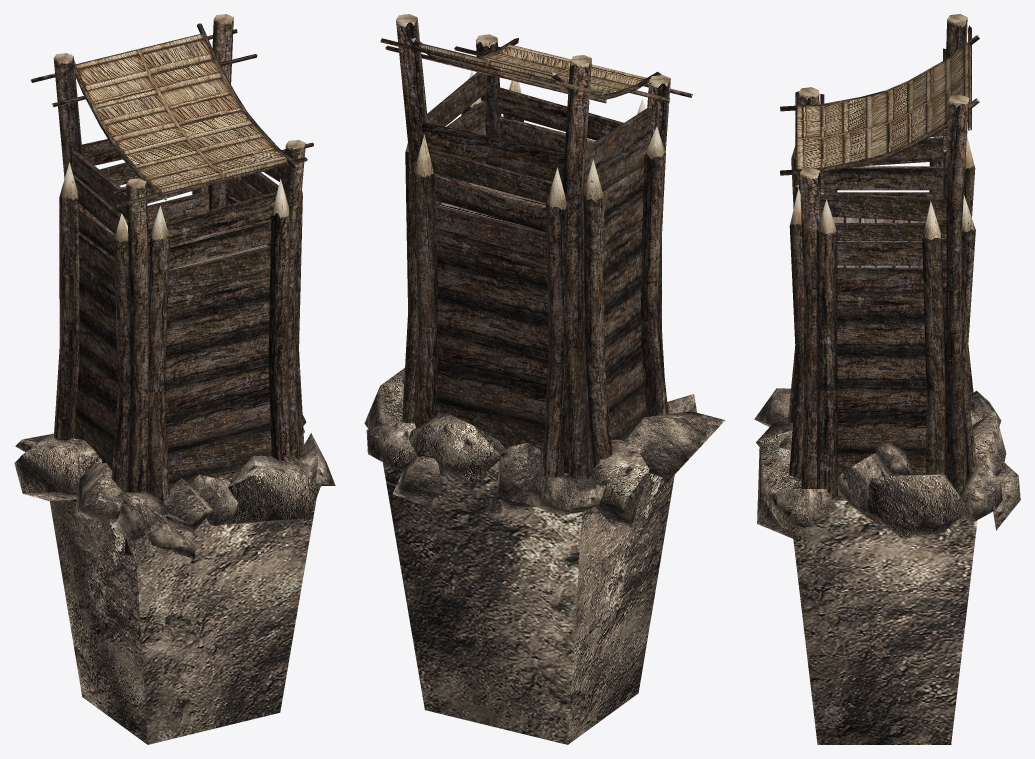
Rendered from palisade_rocks_fort.dae.
The picture shows the model from 3 angles, left to right: view 1: azimuth 30°, elevation 25°; view 2: azimuth 150°, elevation 25°; view 3: azimuth 270°, elevation 25°; orthographic projection. The views are drawn at different scales.
Parts seen in each view (by area): view 1: palisade_strongpoint; view 2: palisade_strongpoint; view 3: palisade_strongpoint.
Boxes of the visible parts, box(x1,y1,x2,y2) form: palisade_strongpoint: box(14, 14, 335, 744); palisade_strongpoint: box(364, 14, 725, 744); palisade_strongpoint: box(754, 14, 1020, 744).
Bounding box in the file's own units: 10.05 × 23.18 × 8.57.
